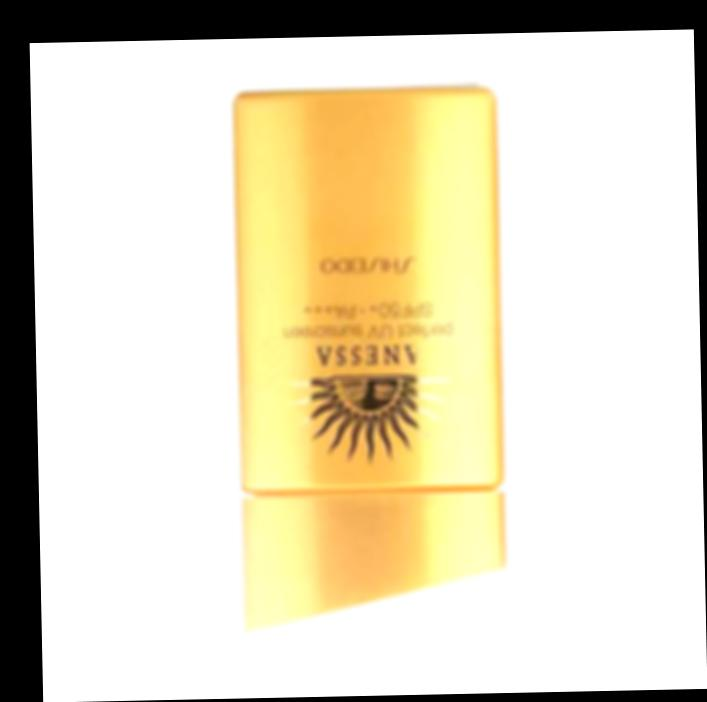cosmetic: (232, 87, 505, 649)
